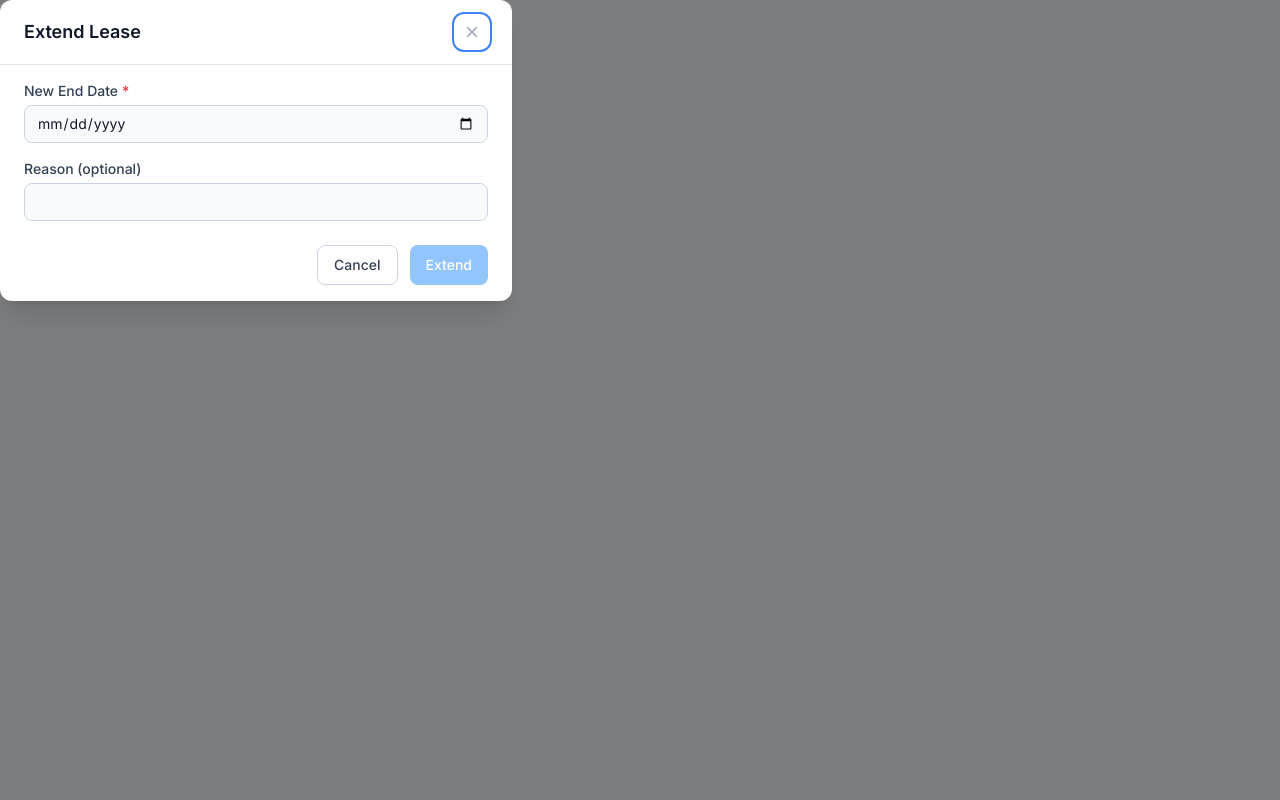
Scenario: ExtendModal › user interactions › enables Extend button when end date is provided
Type "2027-12-31" into the date field labelled "New End Date*". click: (256, 124)
box: [24, 105, 488, 143]
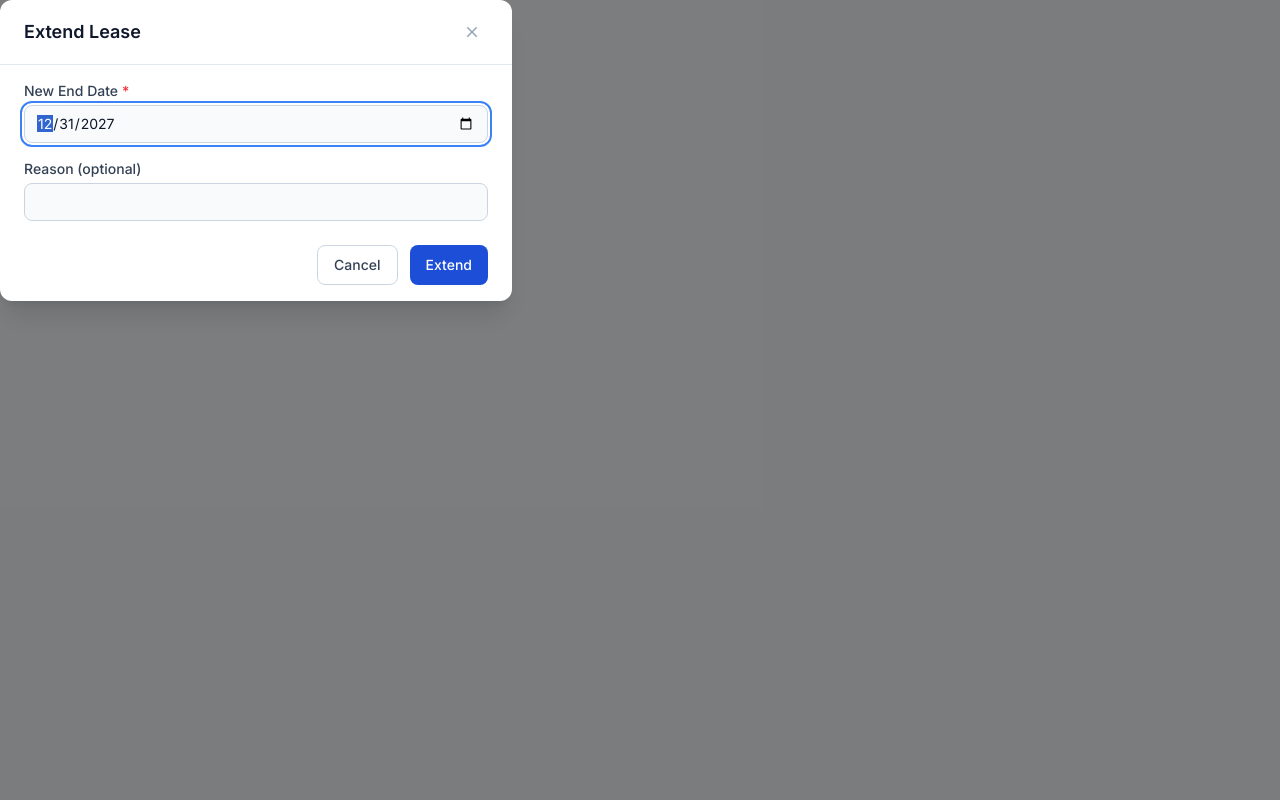
Result: the button "Extend" is enabled at [410, 245, 488, 285]
